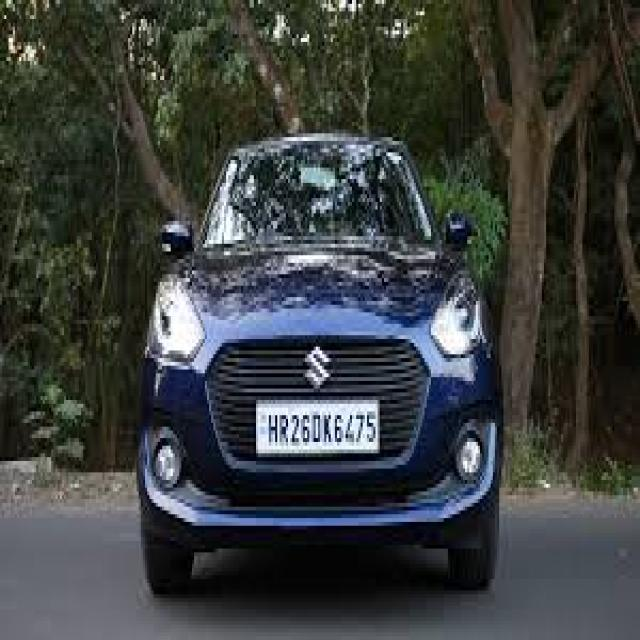cars: (130, 119, 513, 610)
